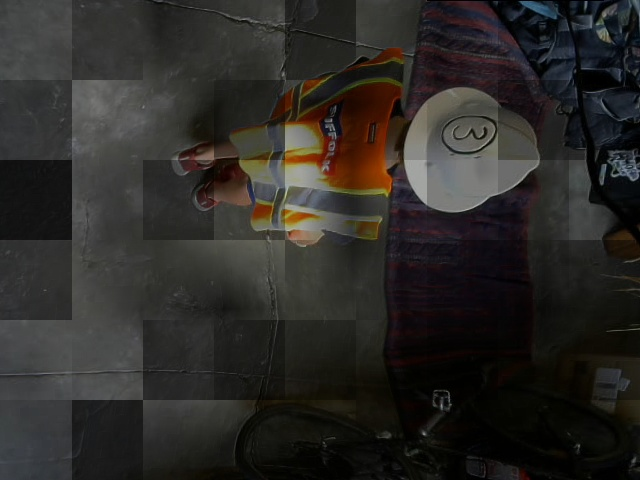three: (436, 114, 501, 156)
